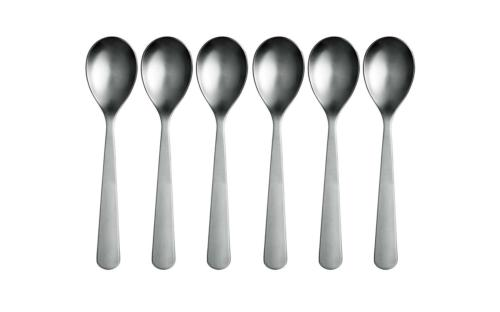Spoon: (140, 36, 192, 271), (196, 36, 248, 271), (252, 36, 304, 271), (363, 36, 415, 270), (308, 36, 359, 271), (86, 37, 137, 271)
